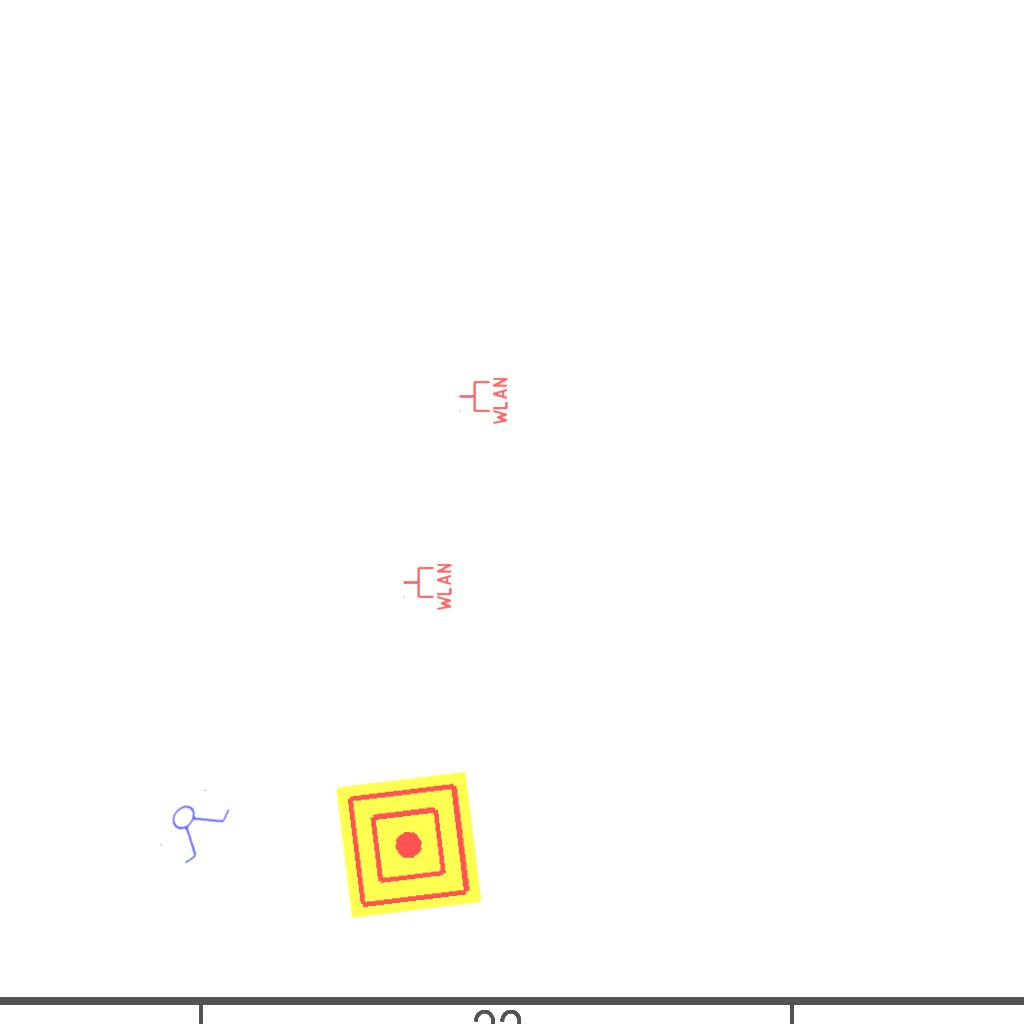NAM-Nichtautomatischer_Melder: (335, 771, 483, 919)
Serienschalter: (148, 777, 240, 873)
WLAN: (457, 375, 509, 427), (401, 561, 453, 613)
